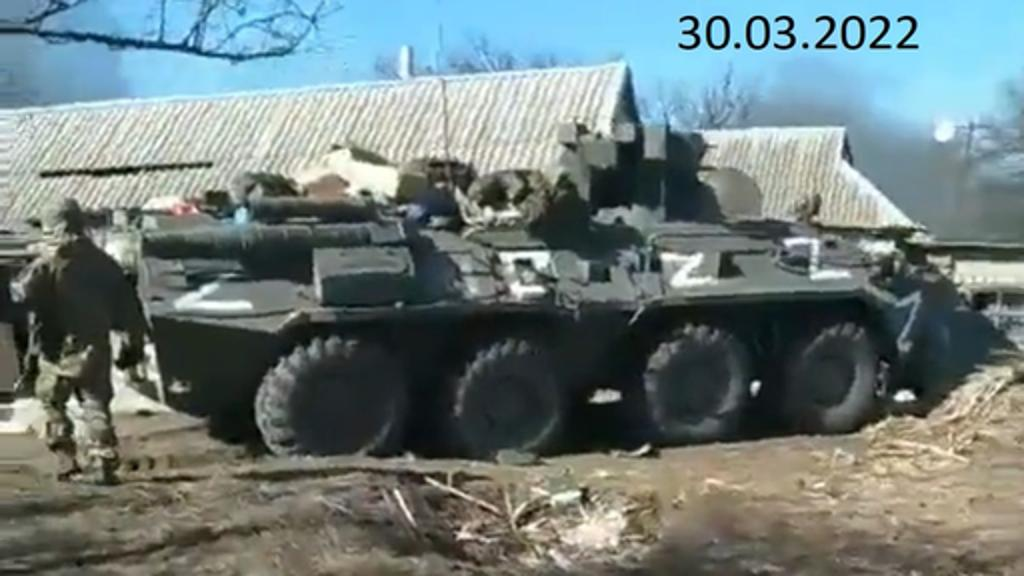APC-IFV: (96, 96, 968, 442)
